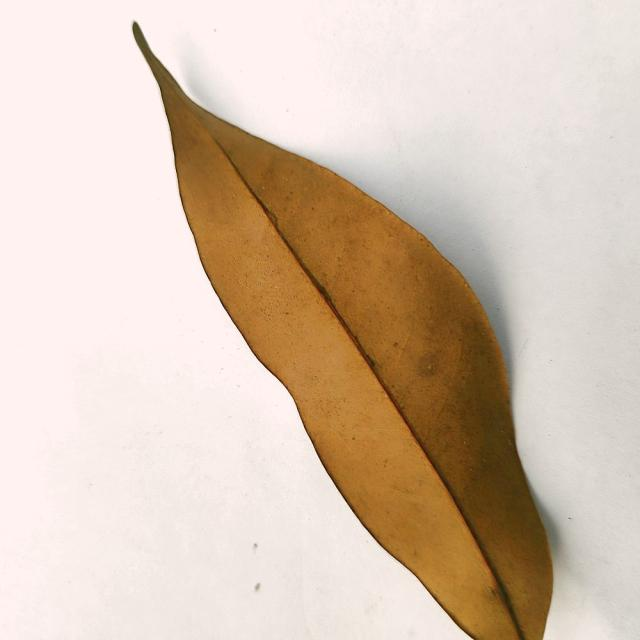Dry_Leaf-Lychee: (131, 24, 555, 639)
